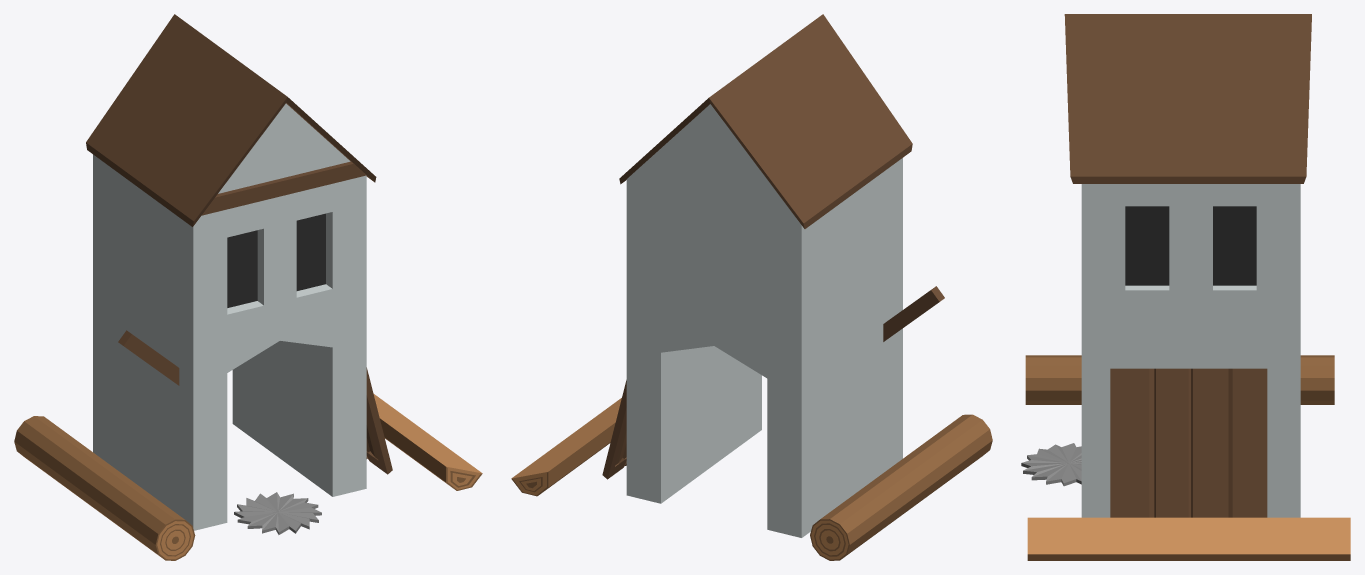
The model's file is SawMill_build_mat.fbx.
3 renders of one model, left to right at view 1: azimuth 30°, elevation 25°; view 2: azimuth 150°, elevation 25°; view 3: azimuth 270°, elevation 25°, orthographic. The views are drawn at different scales.
Visible parts, largest first — view 1: SawMill_build_mat; view 2: SawMill_build_mat; view 3: SawMill_build_mat.
Boxes of the visible parts, x1,y1,x2,y2 form: SawMill_build_mat: (14, 14, 482, 560); SawMill_build_mat: (511, 14, 992, 560); SawMill_build_mat: (1021, 14, 1350, 560).
Bounding box in the file's own units: 3.1 × 3.82 × 2.47.
